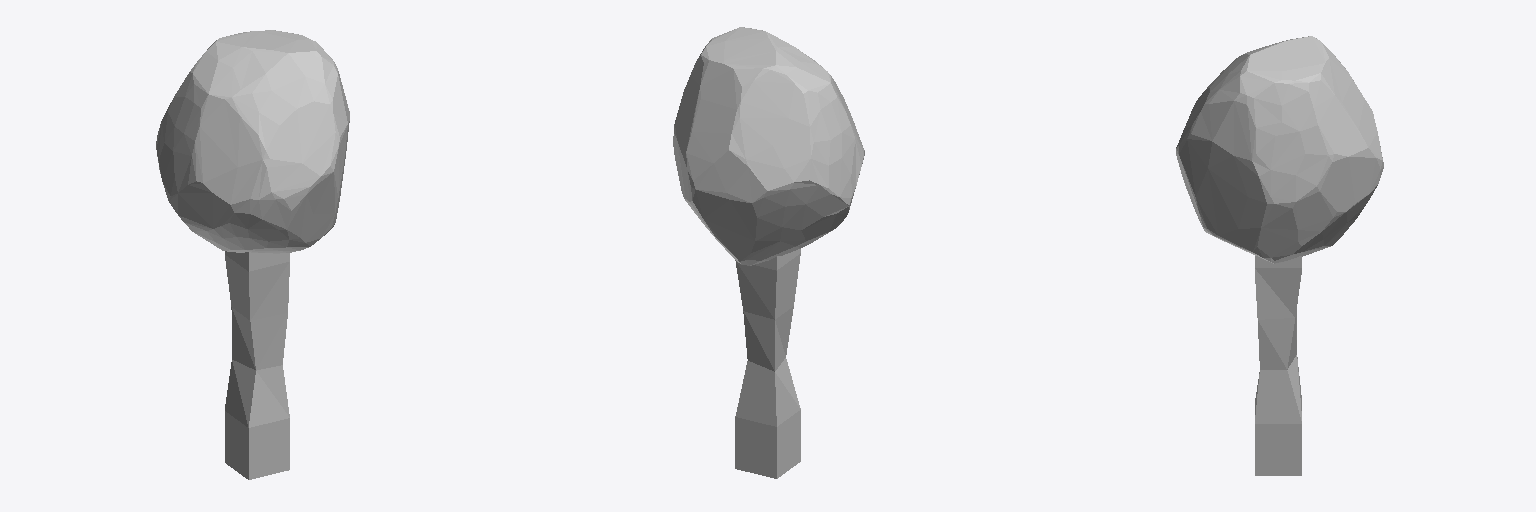
File: tree3.obj
3 views of the same model, side by side, from view 1: azimuth 30°, elevation 25°; view 2: azimuth 150°, elevation 25°; view 3: azimuth 270°, elevation 25° (orthographic).
Parts seen in each view (by area): view 1: tree3; view 2: tree3; view 3: tree3.
Boxes of the visible parts, x1,y1,x2,y2 form: tree3: [156, 30, 349, 479]; tree3: [673, 27, 864, 478]; tree3: [1176, 36, 1383, 475].
Size of the model in its own units: 4.18 by 9.93 by 4.47.